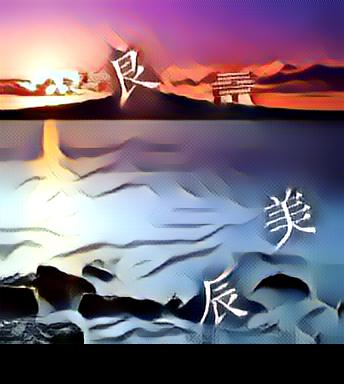hanzi: (183, 267, 259, 330), (256, 184, 324, 253), (101, 40, 164, 111), (205, 62, 267, 116)
